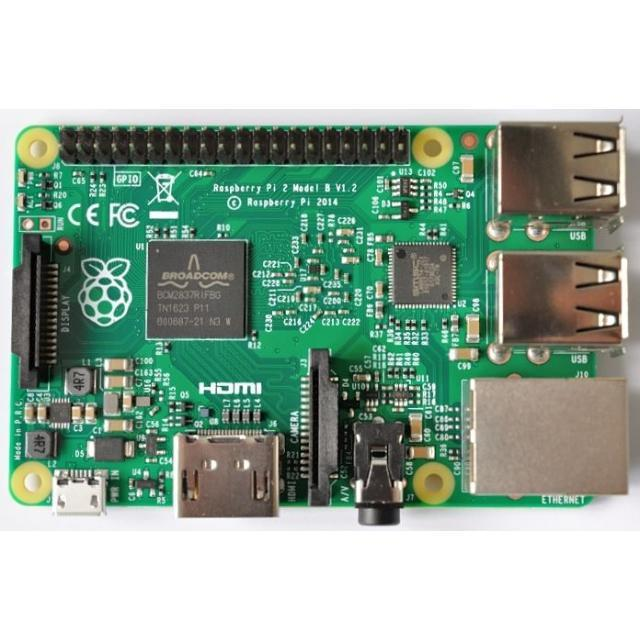Raspberry-Pi-2-B: (12, 123, 629, 525)
